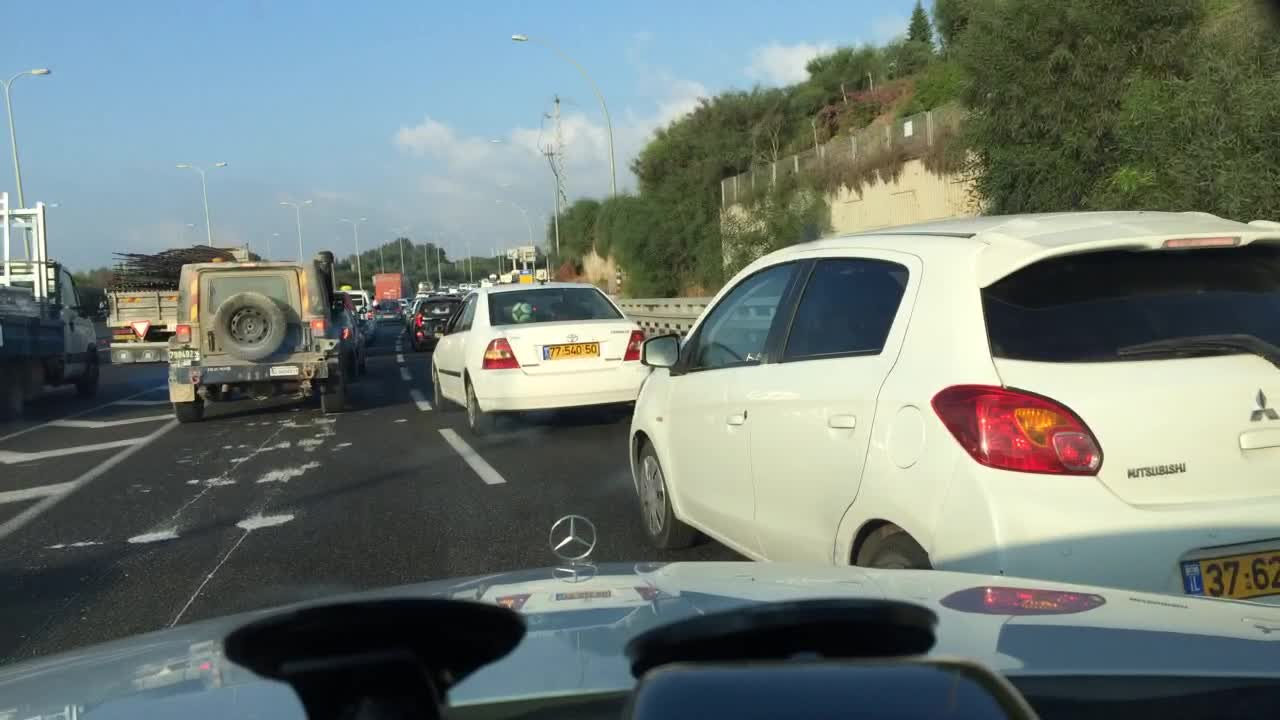car: (624, 212, 1278, 625), (424, 278, 664, 435), (165, 256, 356, 425), (405, 290, 471, 356), (321, 309, 372, 381), (326, 288, 380, 349), (357, 286, 380, 318), (412, 278, 437, 301), (433, 280, 458, 301), (393, 290, 412, 316), (452, 274, 473, 295), (468, 278, 485, 294)
traffic sign: (520, 243, 535, 263), (501, 246, 520, 256)
truck: (0, 187, 104, 423), (98, 273, 203, 366), (368, 269, 410, 305)
